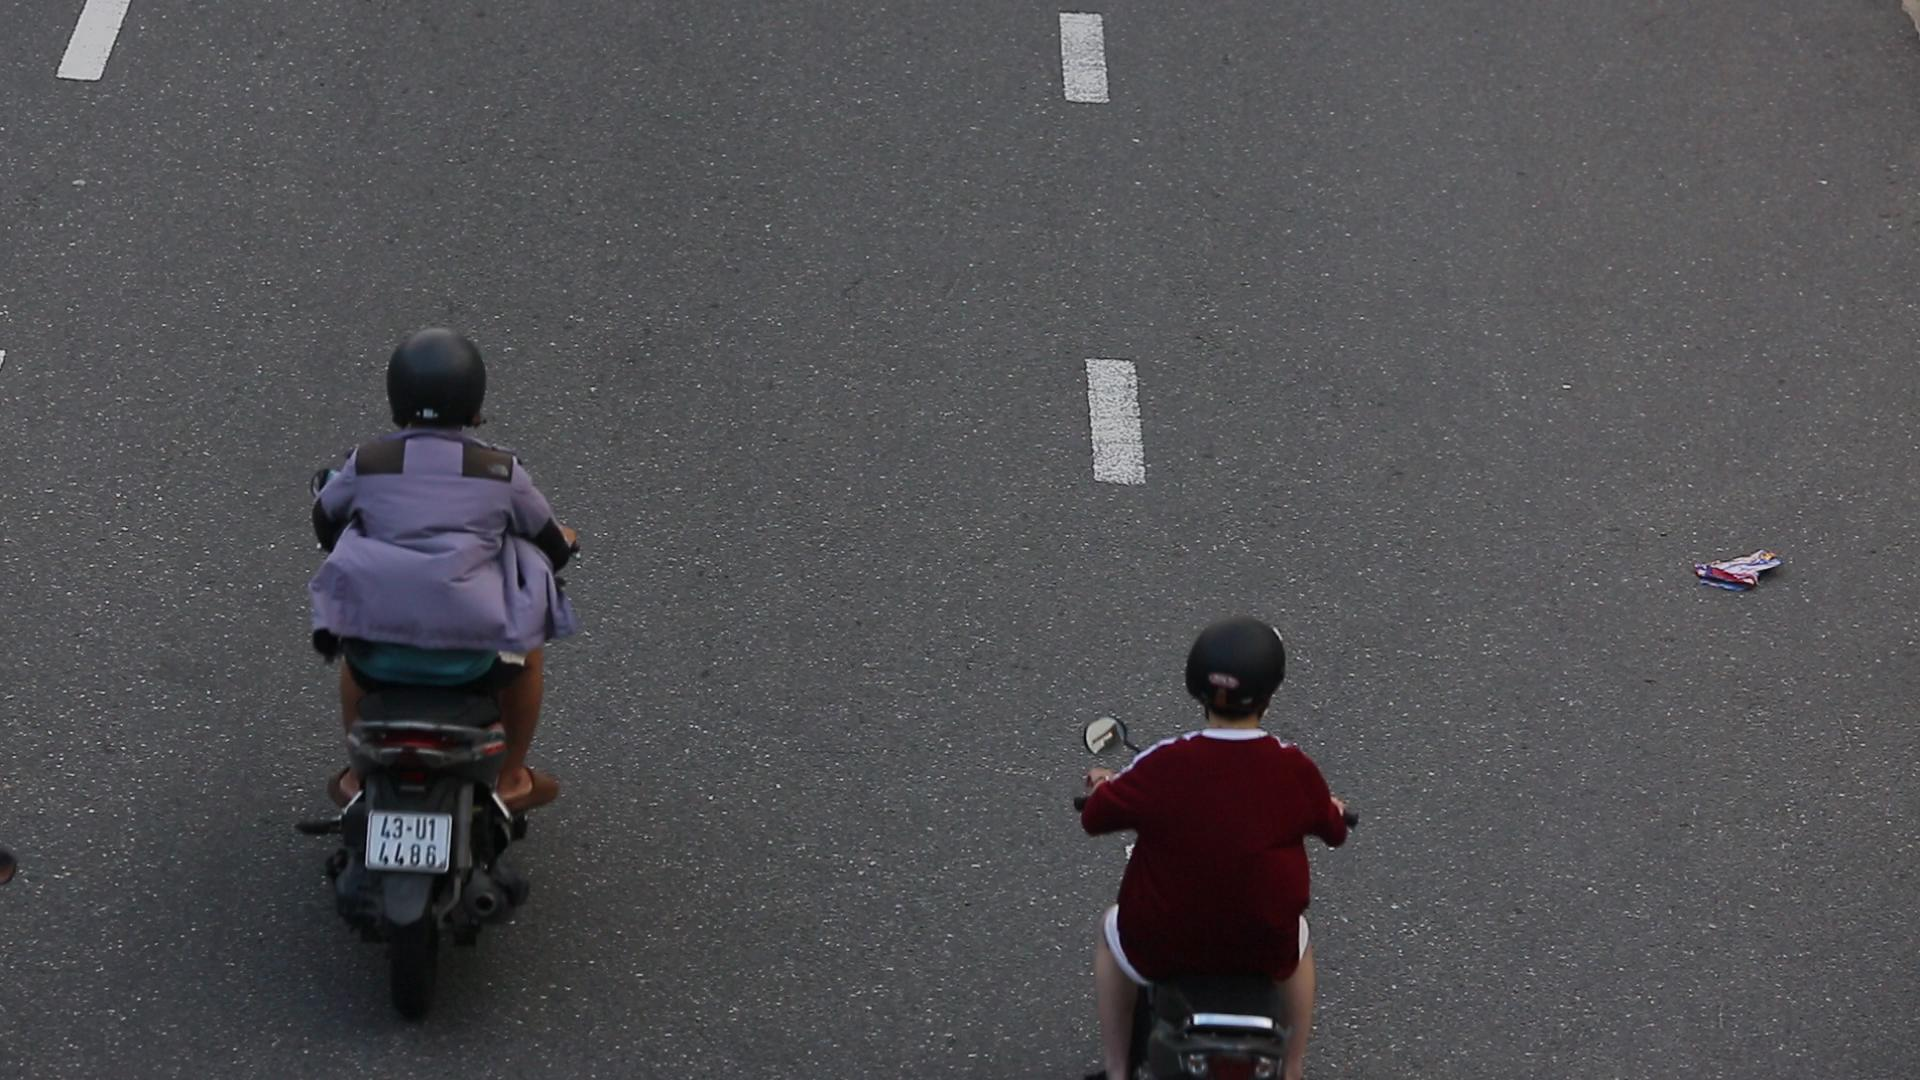motobike: (276, 297, 588, 1035)
